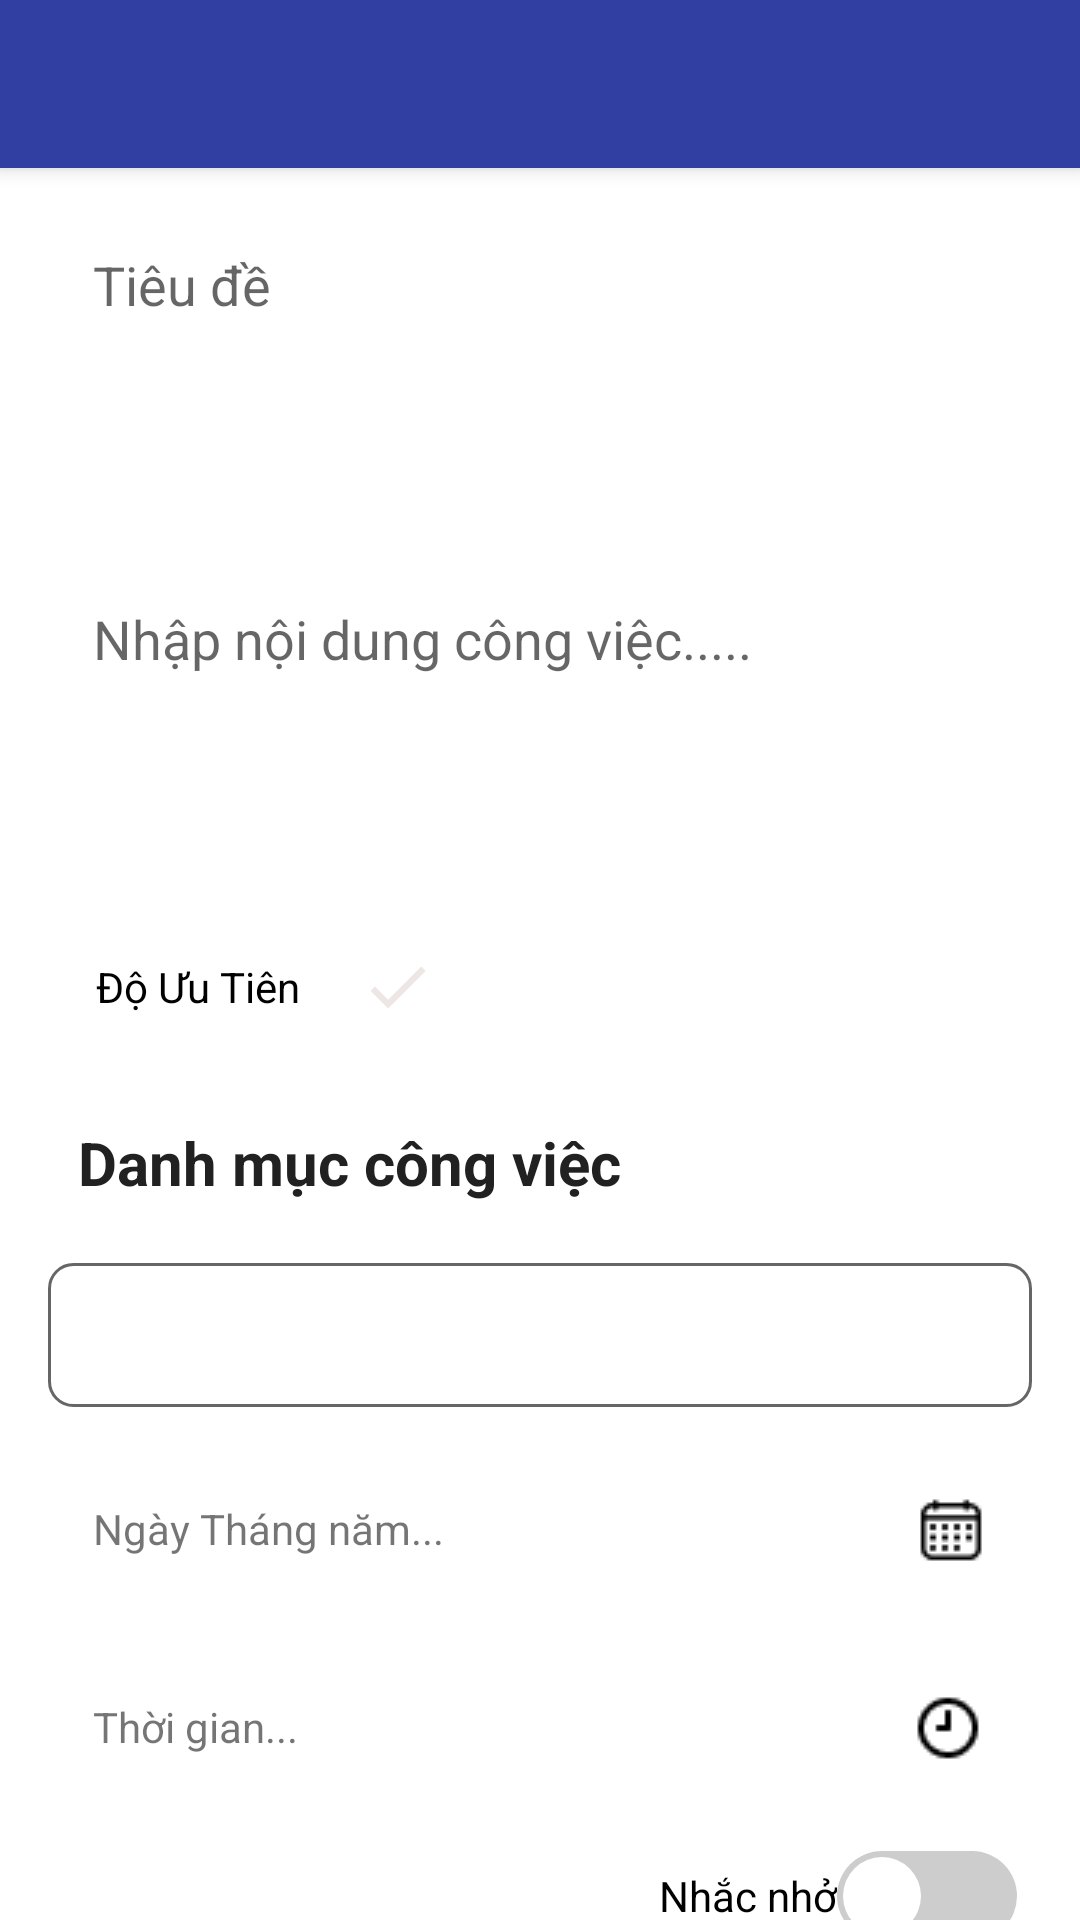

Screen size 1080 × 1920. Icon name, then its center in pixels as (x,y):
done: (398,987)
